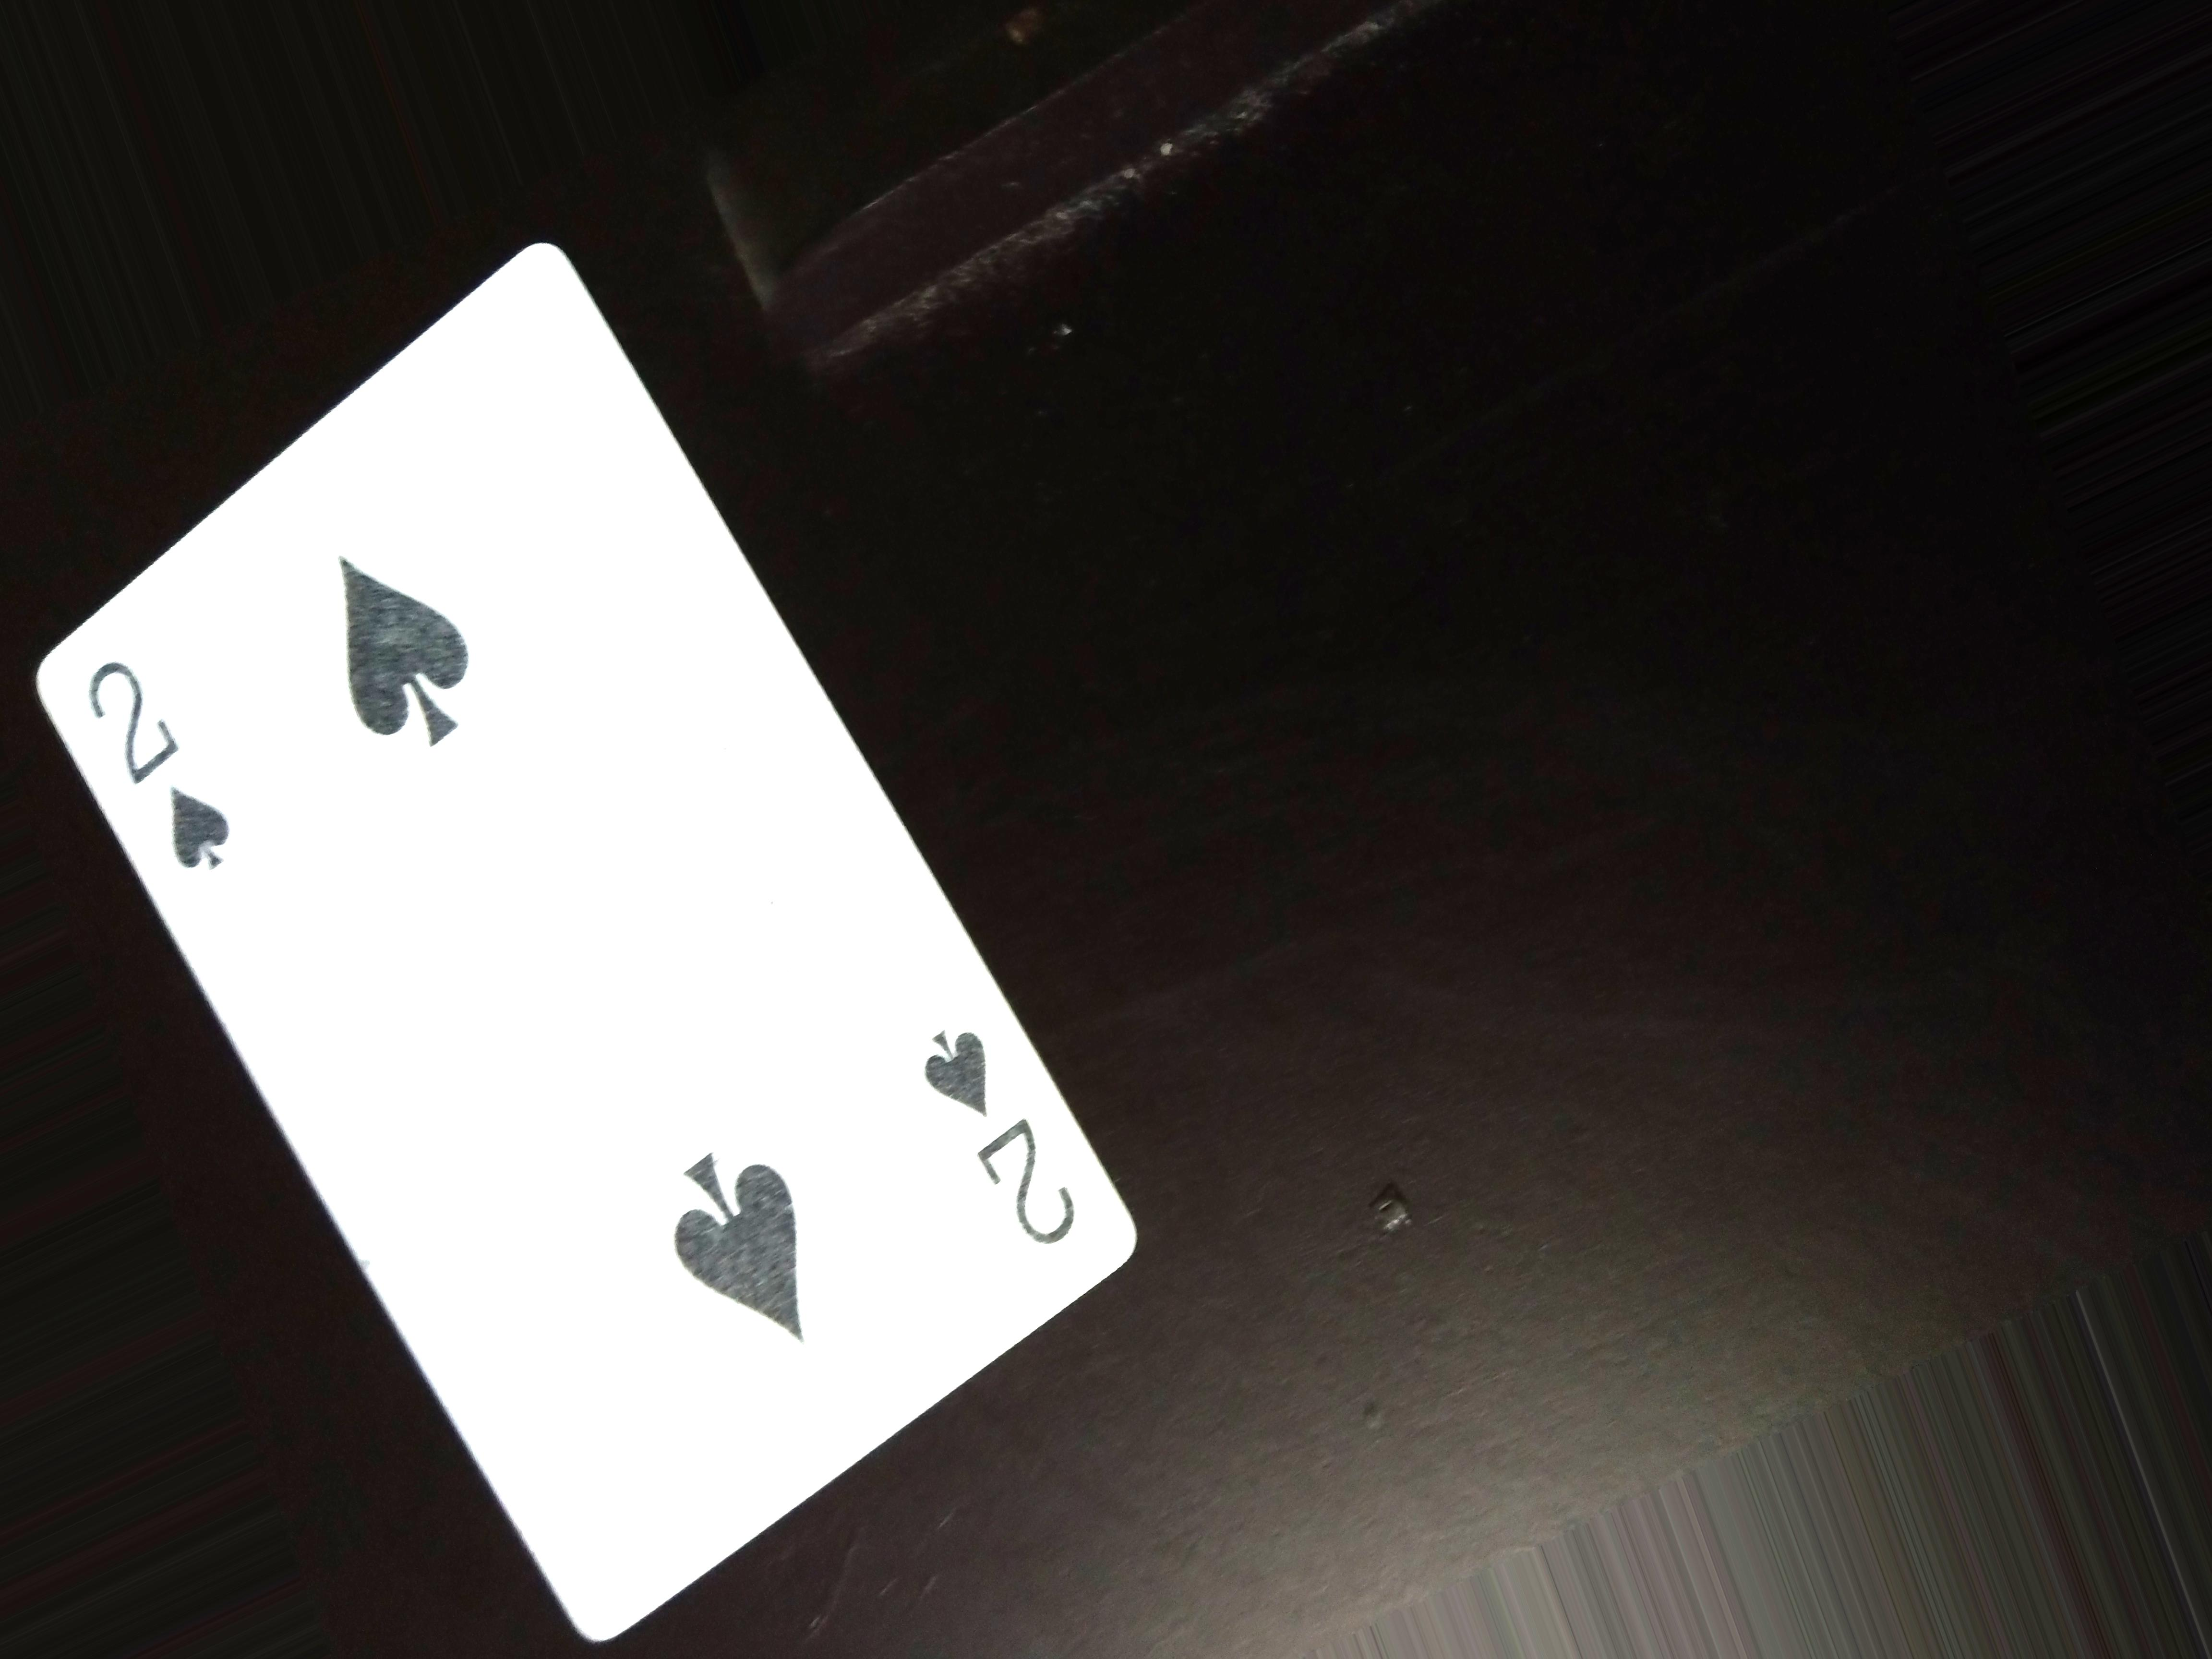2S: (54, 640, 260, 897)
